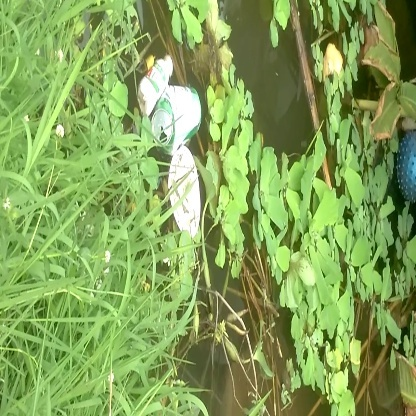bottle: (134, 52, 174, 115)
